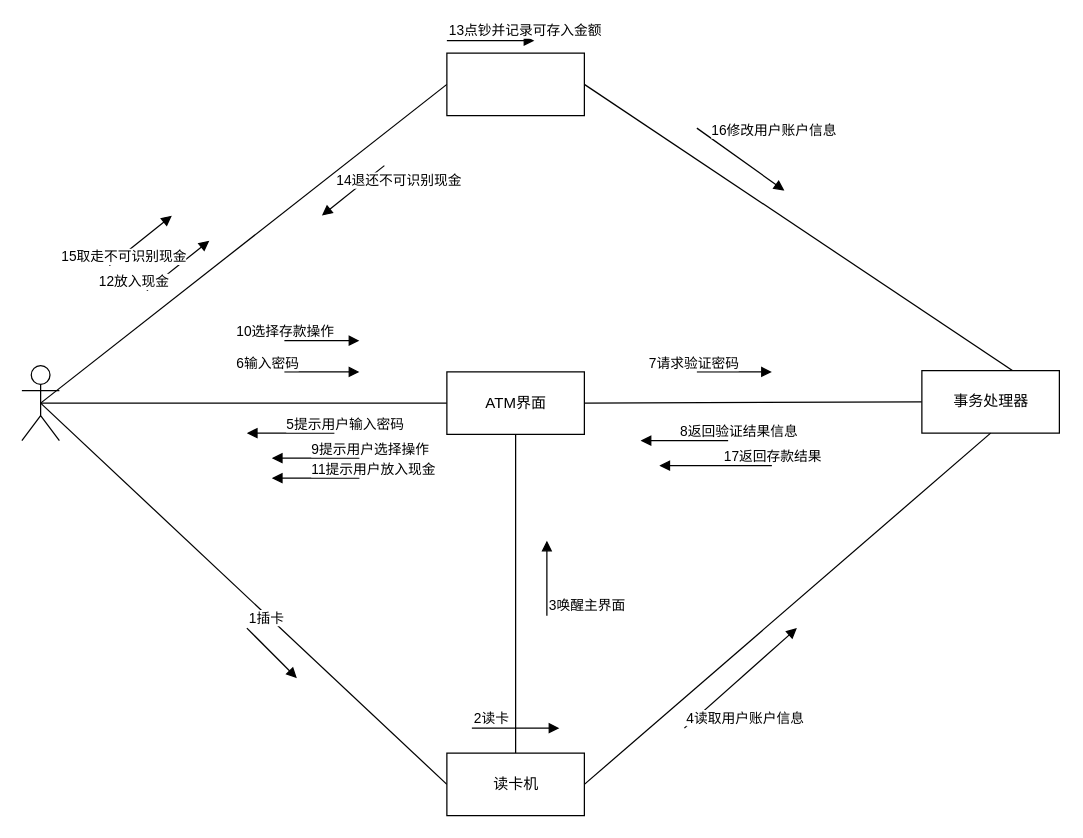
Some shapes in this 1083 by 838 pixel diagram are drawn without their labels. The shapes that lost their labels are listed below. From the top down, each one's centre as x and y in pixels, then its label:
(x=515, y=84): 点钞机
(x=40, y=402): 客户
